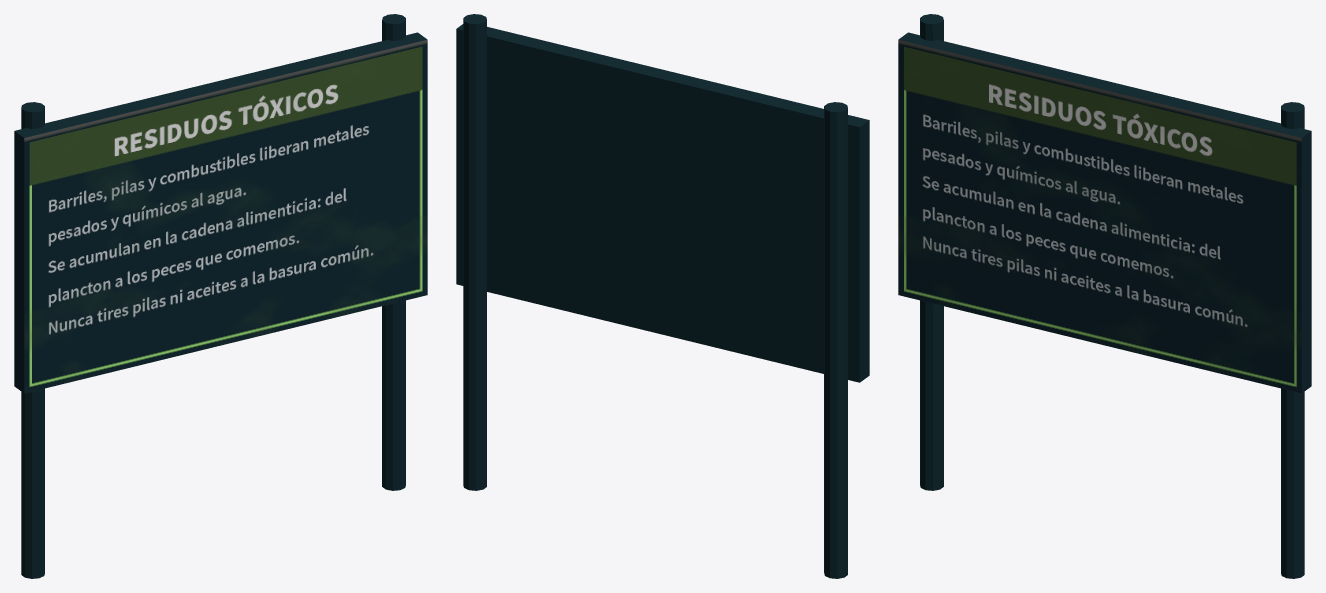
Rendered from letrero_toxicos.fbx.
3 renders of one model, left to right at view 1: azimuth 30°, elevation 25°; view 2: azimuth 150°, elevation 25°; view 3: azimuth 330°, elevation 25°, orthographic.
Parts seen in each view (by area): view 1: letrero_toxicos; view 2: letrero_toxicos; view 3: letrero_toxicos.
Boxes of the visible parts, <box> form: letrero_toxicos: <box>14,14,427,578</box>; letrero_toxicos: <box>456,14,869,578</box>; letrero_toxicos: <box>898,14,1311,578</box>.
Size of the model in its own units: 1.9 by 2.1 by 0.15.
Materials: 1 (1 with a texture image).
